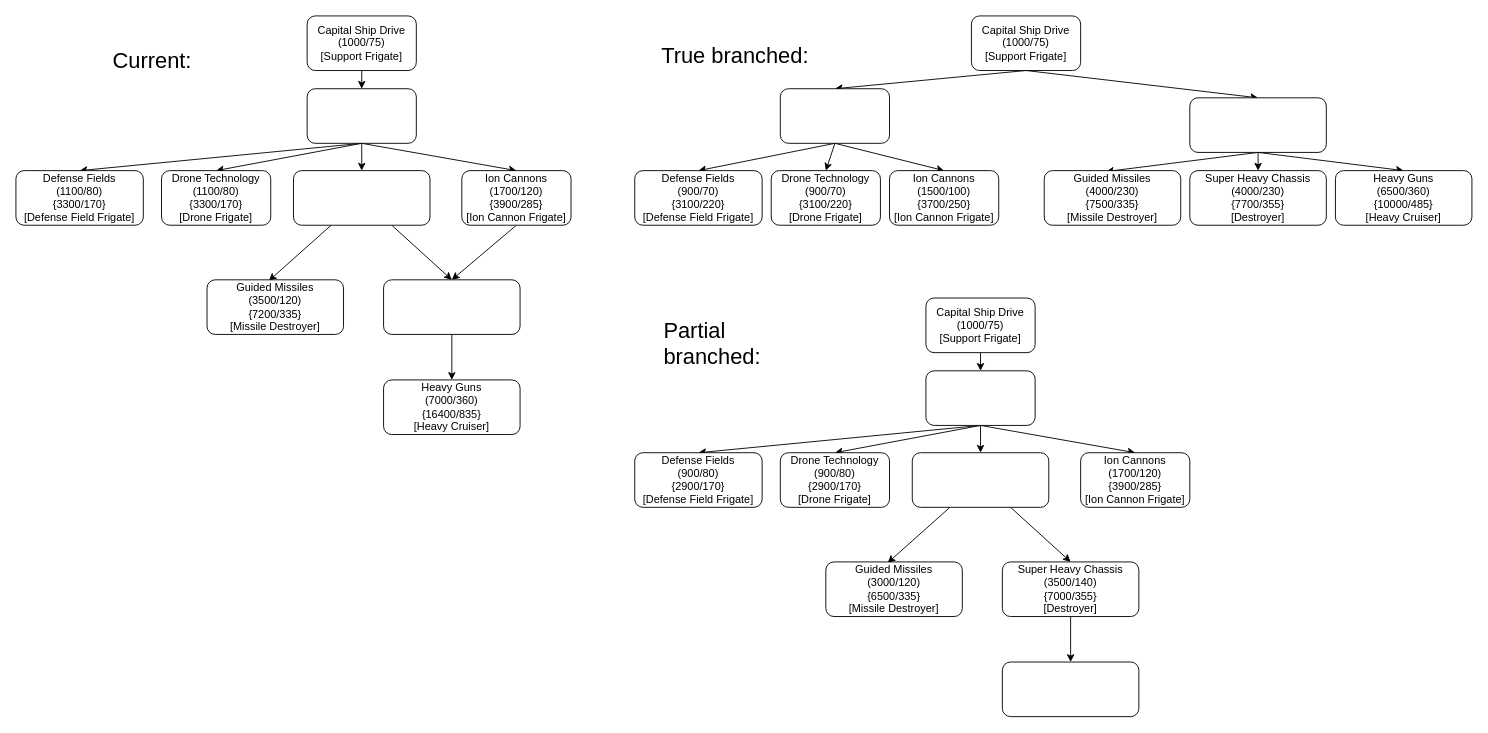
Some shapes in this 1488 by 733 pixel diagram are drawn without their labels. Each missing label, with the box of its shape:
Capital Ship Chassis (1000/90) {2000/165} [Assault Frigate]: (925, 370, 1035, 425)
Capital Ship Chassis (1200/75) {2200/150} [Assault Frigate]: (779, 88, 890, 143)
Capital Ship Chassis (1200/90) {2200/165} [Assault Frigate]: (306, 88, 416, 143)
Heavy Guns (6000/360) {13000/715} [Heavy Cruiser]: (1001, 661, 1139, 717)
Super Capital Ship Drive (1500/50) {3500/215} [Carrier]: (911, 452, 1049, 507)
Super Capital Ship Drive (1500/50) {3700/215} [Carrier]: (293, 170, 430, 225)
Super Capital Ship Drive (2000/50) {3500/125} [Carrier]: (1189, 97, 1326, 152)
Super Heavy Chassis (4000/140) {9400/475} [Destroyer]: (383, 279, 520, 334)
